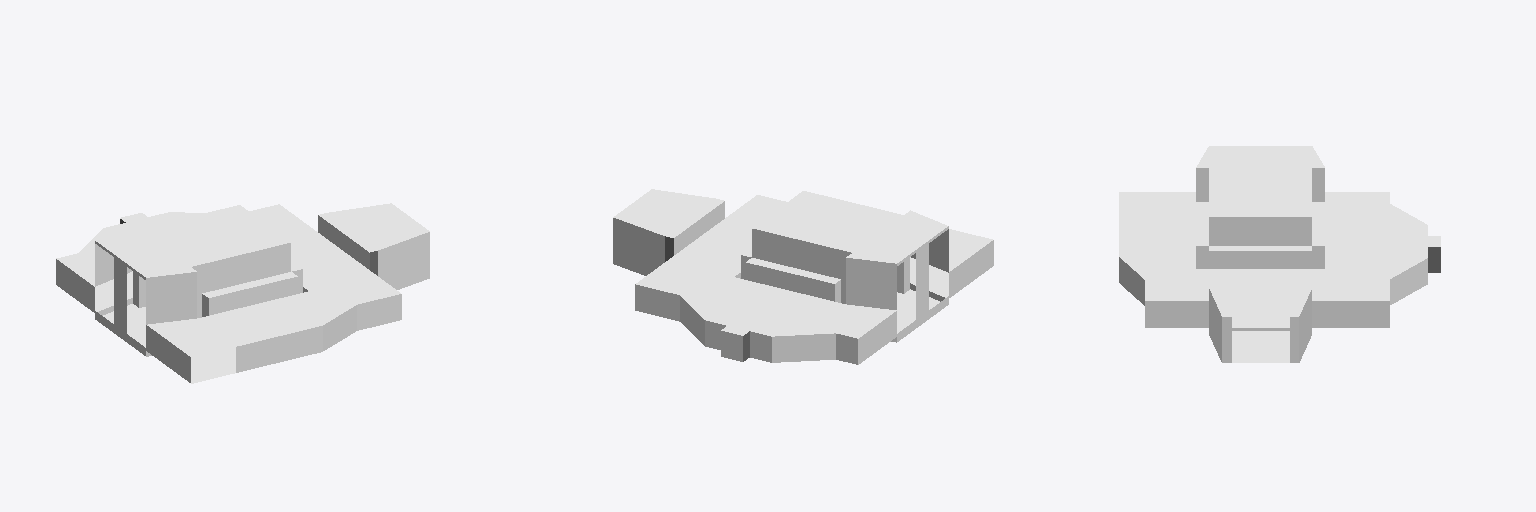
File: DOOMM1_IR.obj
The picture shows the model from 3 angles: view 1: azimuth 30°, elevation 25°; view 2: azimuth 150°, elevation 25°; view 3: azimuth 270°, elevation 25°; orthographic projection.
Parts seen in each view (by area): view 1: mainroom; view 2: mainroom; view 3: mainroom.
Part boxes in pixels (x1,y1,x2,y2): mainroom: (56,203,429,383); mainroom: (613,189,993,364); mainroom: (1119,146,1440,362).
Size of the model in its own units: 36.41 by 9.45 by 35.01.